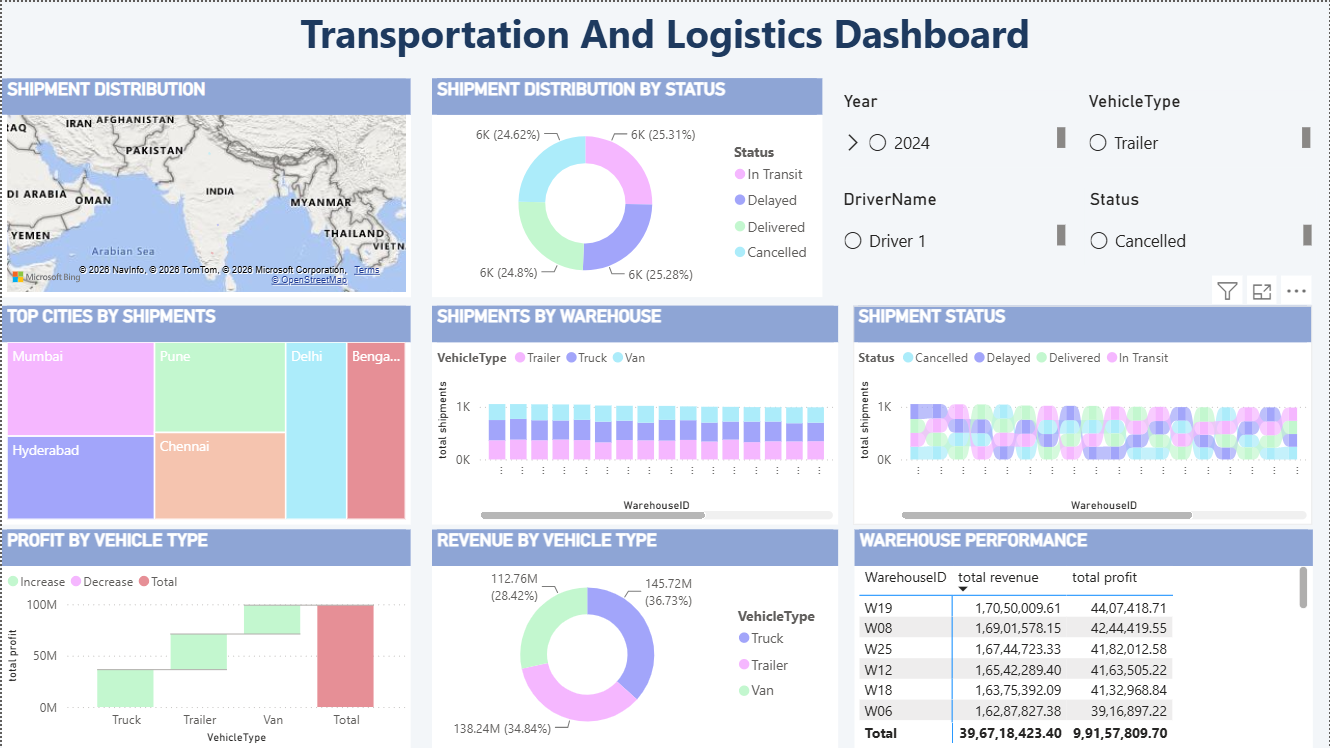

Layout of this report page (visuals, bound fields, positions):
{"tool":"powerbi","page":{"name":"Page 1","canvas":[1280,720],"ordinal":0},"visuals":[{"type":"textbox","box":[0,0,1280,63.9],"z":0},{"type":"filledMap","title":"SHIPMENT DISTRIBUTION","fields":{"Category":["Dim_Routes.Origin"],"X":["Fact_Shipments.total shipments"]},"box":[0,73.6,394.5,211.1],"z":1000},{"type":"donutChart","title":"SHIPMENT DISTRIBUTION BY STATUS","fields":{"Category":["Fact_Shipments.Status"],"Y":["Fact_Shipments.total shipments"]},"box":[415,73.6,376.4,211.1],"z":2000},{"type":"treemap","title":"TOP CITIES BY SHIPMENTS","fields":{"Group":["Dim_Routes.Origin"],"Values":["Fact_Shipments.total shipments"]},"box":[0,293.2,394.5,211.1],"z":3000},{"type":"columnChart","title":"SHIPMENTS BY WAREHOUSE","fields":{"Category":["Fact_Shipments.WarehouseID"],"Y":["Fact_Shipments.total shipments"],"Series":["Dim_Vehicles.VehicleType"]},"box":[415,293.2,392.1,211.1],"z":4000},{"type":"waterfallChart","title":"PROFIT BY VEHICLE TYPE","fields":{"Category":["Dim_Vehicles.VehicleType"],"Y":["Fact_Shipments.total profit"]},"box":[0,509.1,394.5,211.1],"z":5000},{"type":"donutChart","title":"REVENUE BY VEHICLE TYPE ","fields":{"Category":["Dim_Vehicles.VehicleType"],"Y":["Fact_Shipments.total revenue"]},"box":[415,509.1,392.1,211.1],"z":6000},{"type":"ribbonChart","title":"SHIPMENT STATUS","fields":{"Category":["Fact_Shipments.WarehouseID"],"Series":["Fact_Shipments.Status"],"Y":["Fact_Shipments.total shipments"]},"box":[821.6,293.2,442.8,211.1],"z":7000},{"type":"pivotTable","title":"WAREHOUSE PERFORMANCE","fields":{"Rows":["Fact_Shipments.WarehouseID"],"Values":["Fact_Shipments.total revenue","Fact_Shipments.total profit"]},"box":[822.8,509.1,442.8,211.1],"z":8000},{"type":"listSlicer","fields":{"Values":["Fact_Shipments.Status"]},"box":[1044.8,179.8,224.4,74.8],"z":9000},{"type":"listSlicer","fields":{"Values":["Fact_Shipments.BookingDate.Variation.Date Hierarchy.Year","Fact_Shipments.BookingDate.Variation.Date Hierarchy.Quarter","Fact_Shipments.BookingDate.Variation.Date Hierarchy.Month","Fact_Shipments.BookingDate.Variation.Date Hierarchy.Day"]},"box":[807.1,85.7,224.4,74.8],"z":10000},{"type":"listSlicer","fields":{"Values":["Dim_Drivers.DriverName"]},"box":[807.1,179.8,224.4,74.8],"z":11000},{"type":"listSlicer","fields":{"Values":["Dim_Vehicles.VehicleType"]},"box":[1043.6,85.7,224.4,74.8],"z":12000}]}

Visuals, with their boxes in screenshot pixels (x1, y1, x2, y2), scaled from the page's 1280x720 canvas onto the 1330x748 screenshot:
textbox: detection(0, 0, 1329, 66)
"SHIPMENT DISTRIBUTION" filledMap: detection(0, 76, 410, 296)
"SHIPMENT DISTRIBUTION BY STATUS" donutChart: detection(431, 76, 822, 296)
"TOP CITIES BY SHIPMENTS" treemap: detection(0, 305, 410, 524)
"SHIPMENTS BY WAREHOUSE" columnChart: detection(431, 305, 839, 524)
"PROFIT BY VEHICLE TYPE" waterfallChart: detection(0, 529, 410, 747)
"REVENUE BY VEHICLE TYPE " donutChart: detection(431, 529, 839, 747)
"SHIPMENT STATUS" ribbonChart: detection(854, 305, 1314, 524)
"WAREHOUSE PERFORMANCE" pivotTable: detection(855, 529, 1315, 747)
listSlicer - Fact_Shipments.Status: detection(1086, 187, 1319, 265)
listSlicer - Fact_Shipments.BookingDate.Variation.Date Hierarchy.Year x Fact_Shipments.BookingDate.Variation.Date Hierarchy.Quarter: detection(839, 89, 1072, 167)
listSlicer - Dim_Drivers.DriverName: detection(839, 187, 1072, 265)
listSlicer - Dim_Vehicles.VehicleType: detection(1084, 89, 1318, 167)
